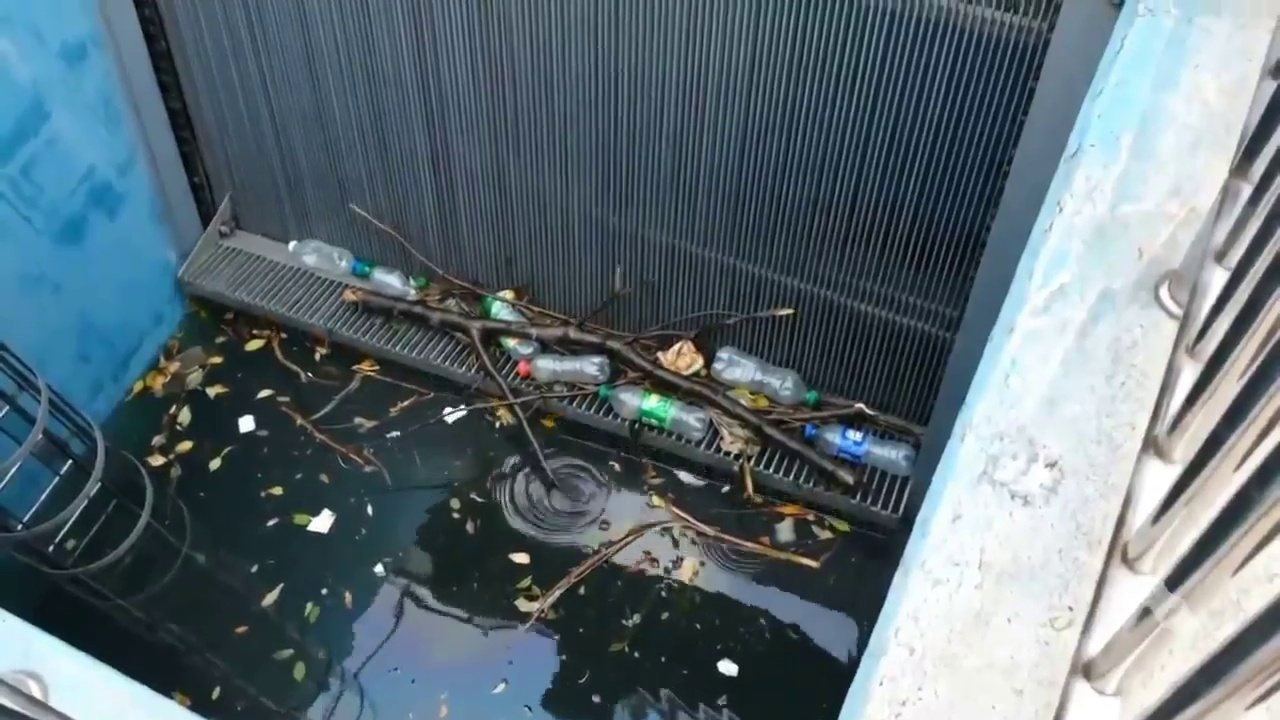debris: (288, 240, 914, 481)
